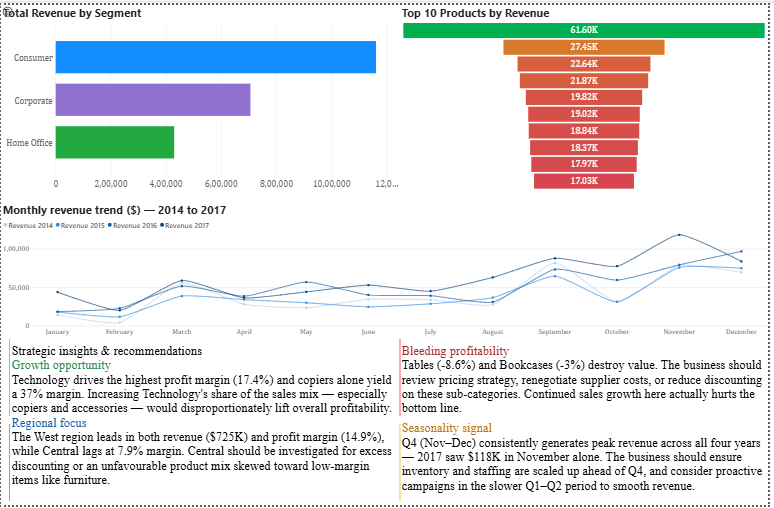

What the dashboard file says about the page in this screenshot:
{"tool":"powerbi","page":{"name":"Page 2","canvas":[2300,1500],"ordinal":1},"visuals":[{"type":"clusteredBarChart","fields":{"Category":["Orders.Segment"],"Y":["Orders.Total Revenue"]},"box":[0,0,1197,561],"z":0},{"type":"funnel","title":"Top 10 Products by Revenue","fields":{"Y":["Orders.Top 10 Products by Revenue"],"Category":["Orders.Product Name"]},"box":[1197,0,1104,561],"z":1000},{"type":"lineChart","title":"Monthly revenue trend ($) — 2014 to 2017","fields":{"Y":["Orders.Revenue 2014","Orders.Revenue 2015","Orders.Revenue 2016","Orders.Revenue 2017"],"Category":["Orders.Order Date Hierarchy.Month"]},"box":[0,591,2301,411],"z":2000},{"type":"textbox","box":[27,1011,1170,489],"z":2001},{"type":"textbox","box":[1197,1011,1103,489],"z":2002},{"type":"shape","box":[1047,1002,300,231],"z":2003},{"type":"shape","box":[1047,1257,300,231],"z":2004},{"type":"shape","box":[0,1002,51,231],"z":2005},{"type":"shape","box":[0,1257,51,231],"z":2006},{"type":"actionButton","box":[0,0,100,40],"z":2007}]}

Visuals, with their boxes in screenshot pixels (x1, y1, x2, y2), scaled from the page's 2300x1500 canvas onto the 774x508 screenshot:
clusteredBarChart - Orders.Segment x Orders.Total Revenue: [0, 0, 403, 190]
"Top 10 Products by Revenue" funnel: [403, 0, 773, 190]
"Monthly revenue trend ($) — 2014 to 2017" lineChart: [0, 200, 773, 339]
textbox: [9, 342, 403, 507]
textbox: [403, 342, 773, 507]
shape: [352, 339, 453, 418]
shape: [352, 426, 453, 504]
shape: [0, 339, 17, 418]
shape: [0, 426, 17, 504]
actionButton: [0, 0, 34, 14]
